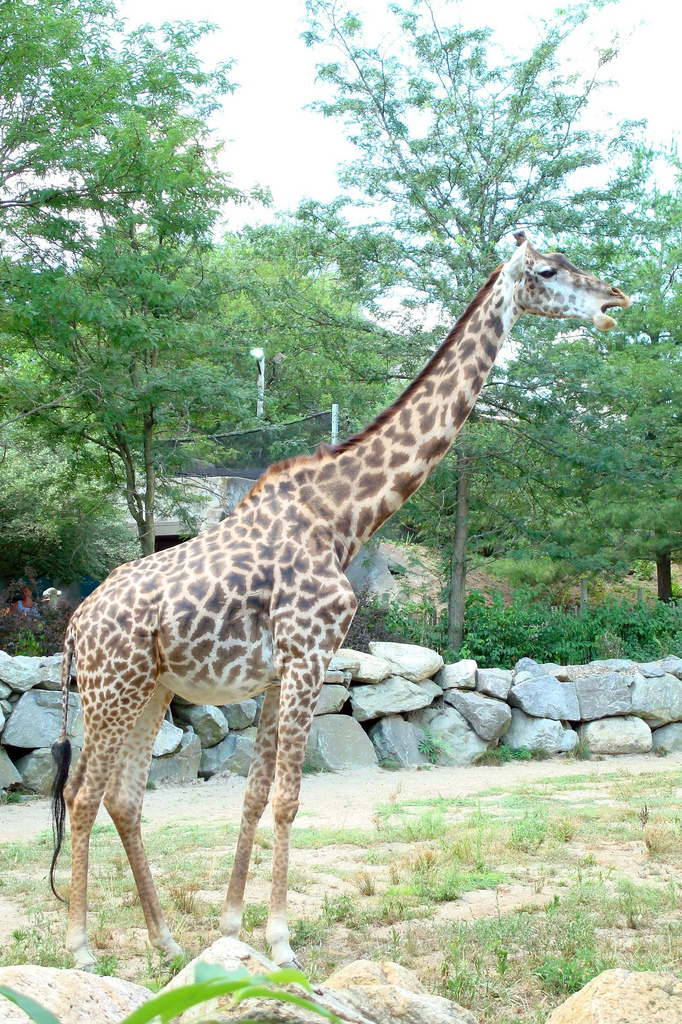giraffe: (18, 223, 632, 919)
